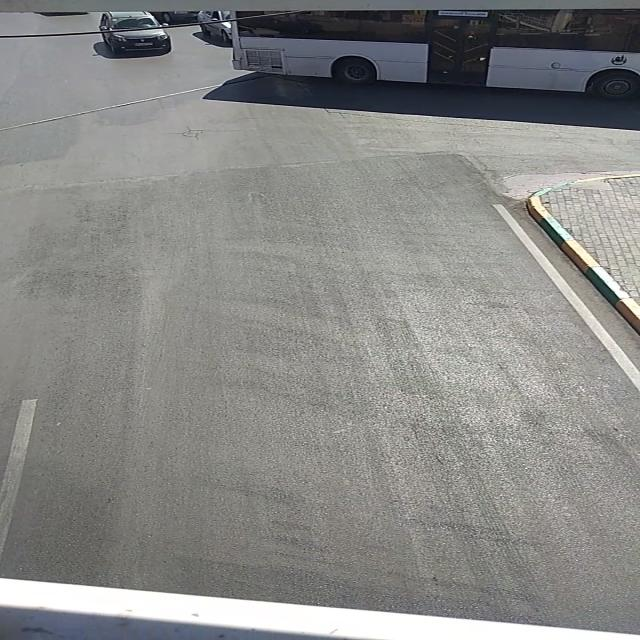bus: (230, 11, 638, 101)
car: (94, 12, 174, 54)
